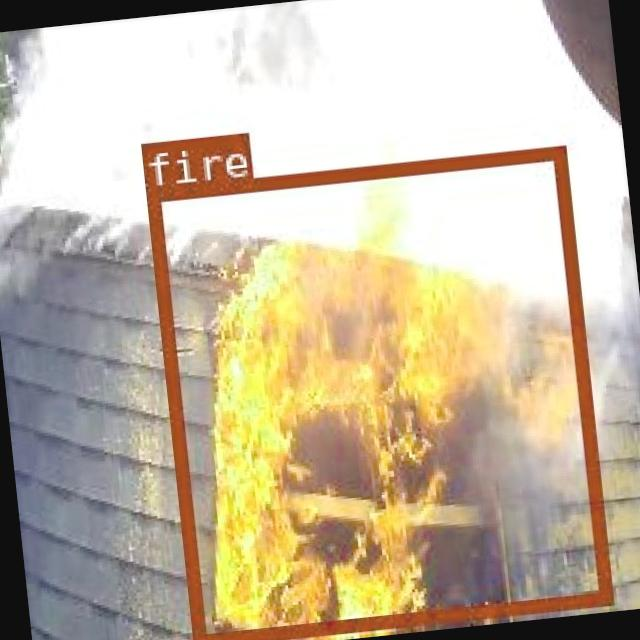fire: (144, 143, 609, 640)
